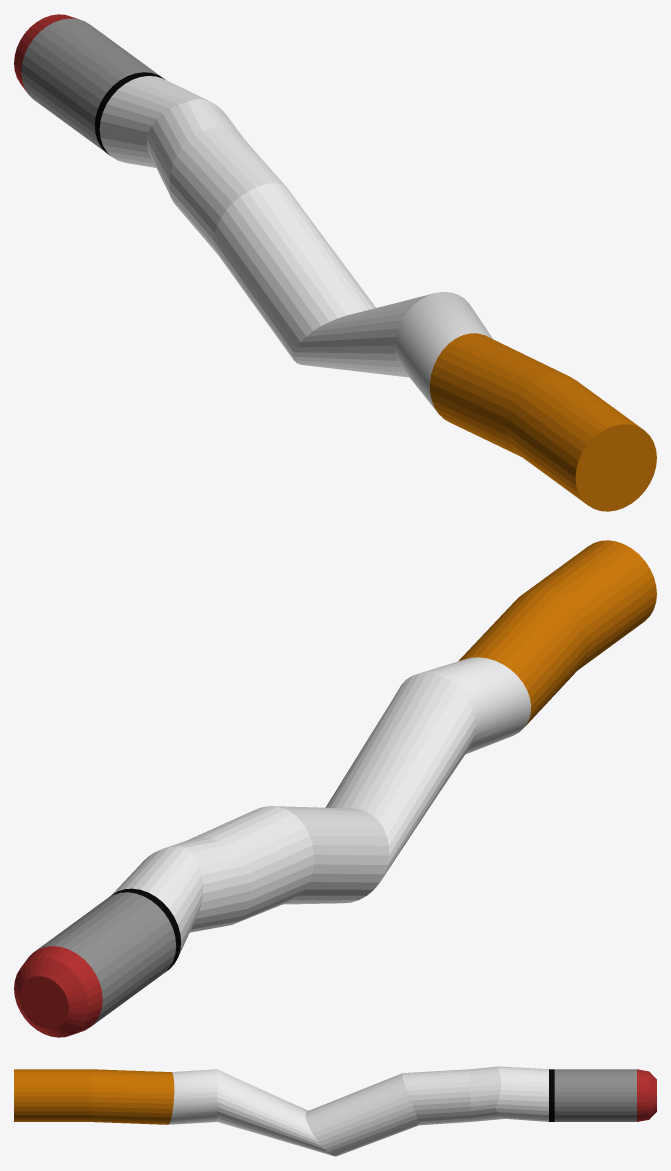
Rendered from 曲がりタバコ2.fbx.
3 views of the same model, one above another, from view 1: azimuth 30°, elevation 25°; view 2: azimuth 150°, elevation 25°; view 3: azimuth 270°, elevation 25° (orthographic). The views are drawn at different scales.
Parts seen in each view (by area): view 1: 円柱; view 2: 円柱; view 3: 円柱.
Boxes of the visible parts, x1,y1,x2,y2 form: 円柱: (14,14,656,511); 円柱: (14,540,656,1037); 円柱: (14,1066,656,1156).
Size of the model in its own units: 17.3 by 25.89 by 171.
